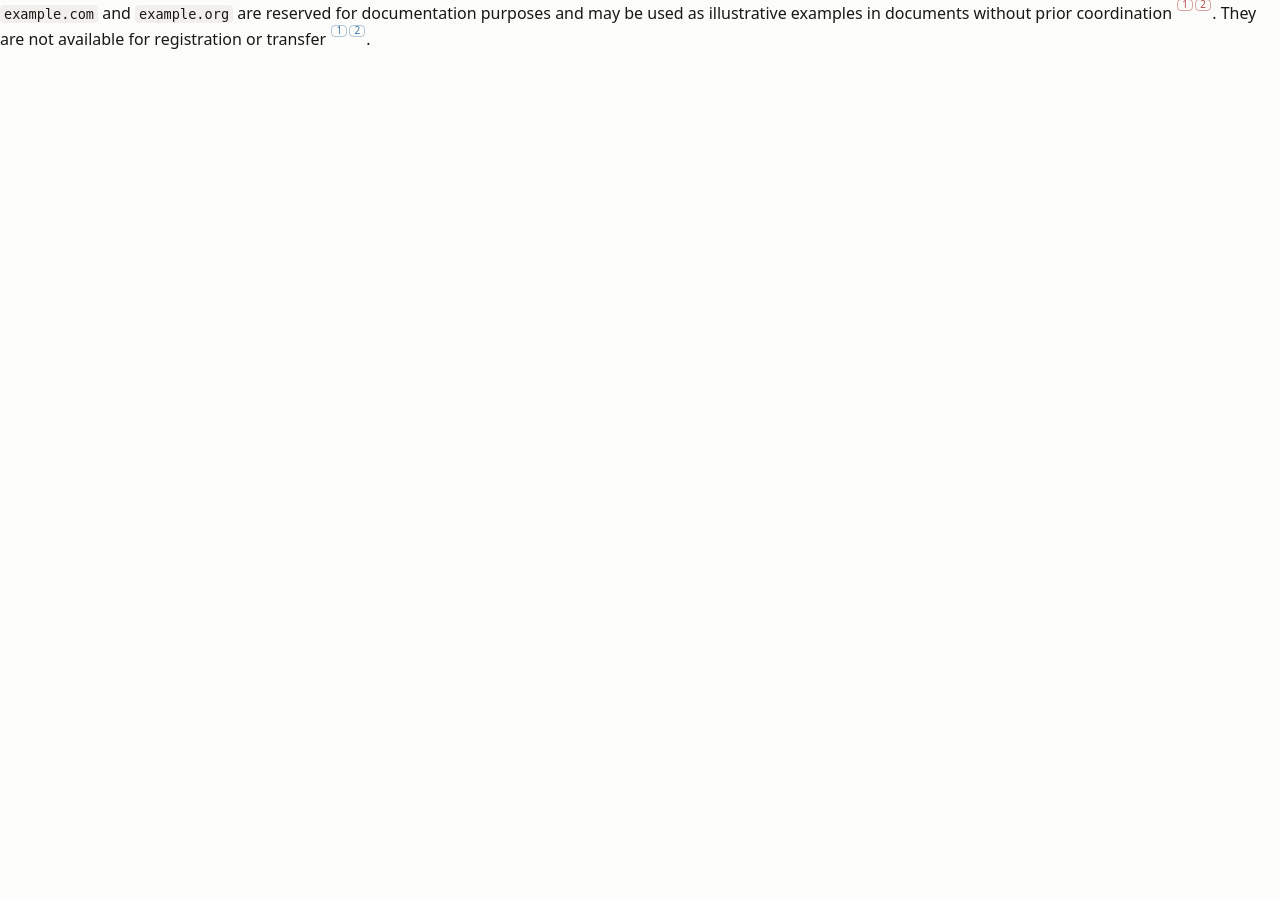
Test: citation verdict belongs to the claim occurrence › uses each claim's verdict for repeated sources in one paragraph and source card
Click the button named "Source 1: shared (Supported by this source)" at (339, 31), box [331,25,347,37]
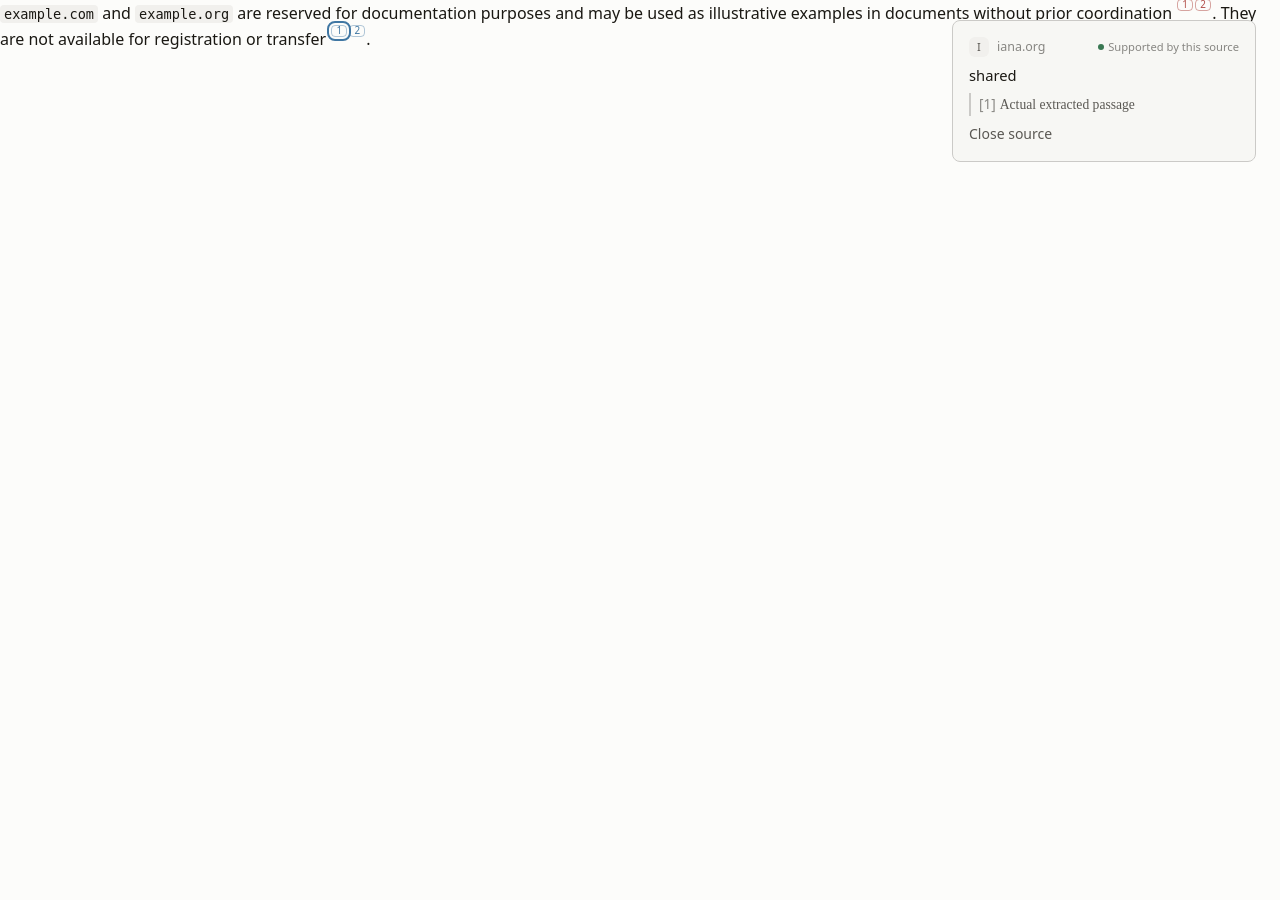
Check: the dialog shows "Supported by this source", box [1108,39,1239,54]
Check: the dialog shows "Actual extracted passage", box [1000,97,1135,112]
Press Escape
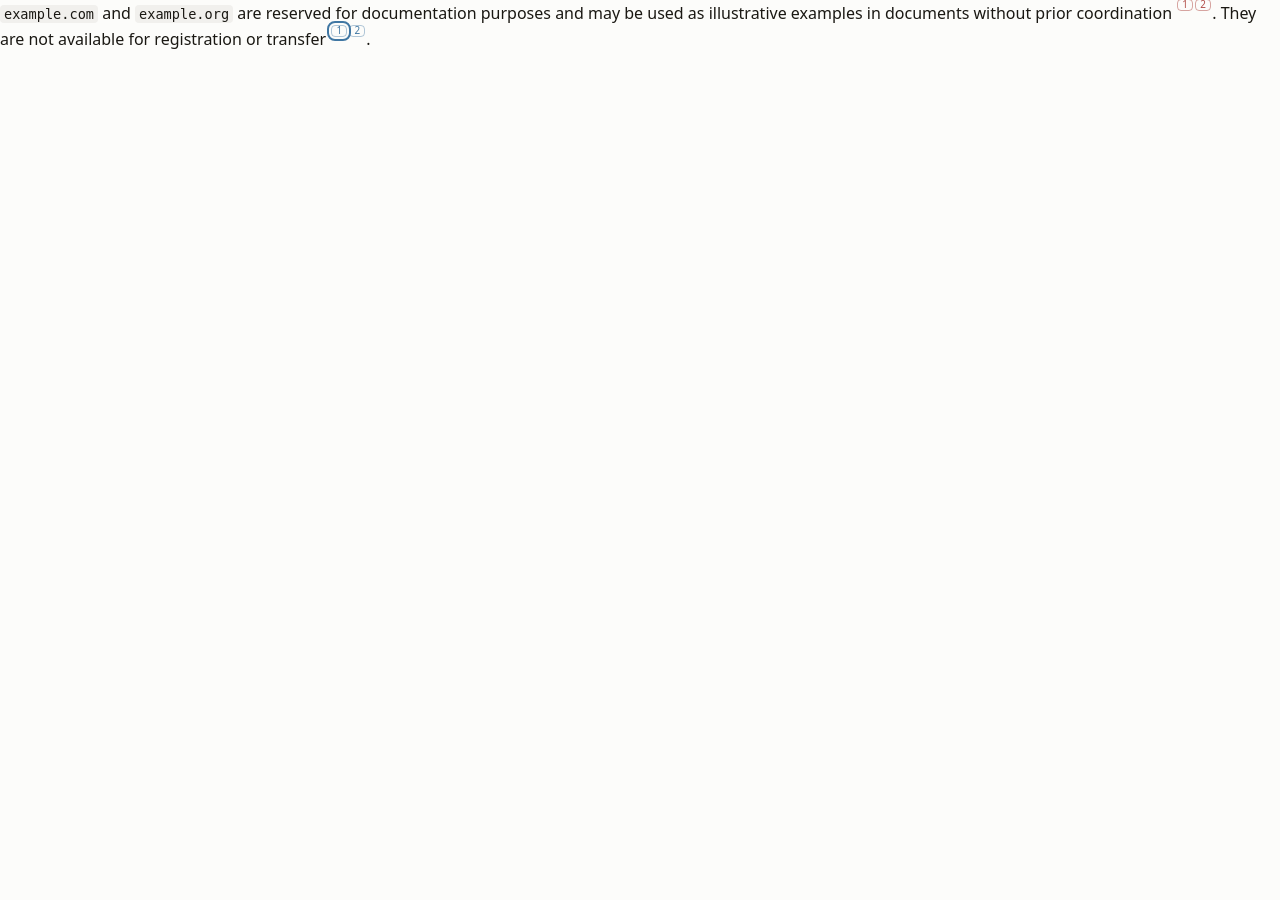
Check: the dialog is gone
